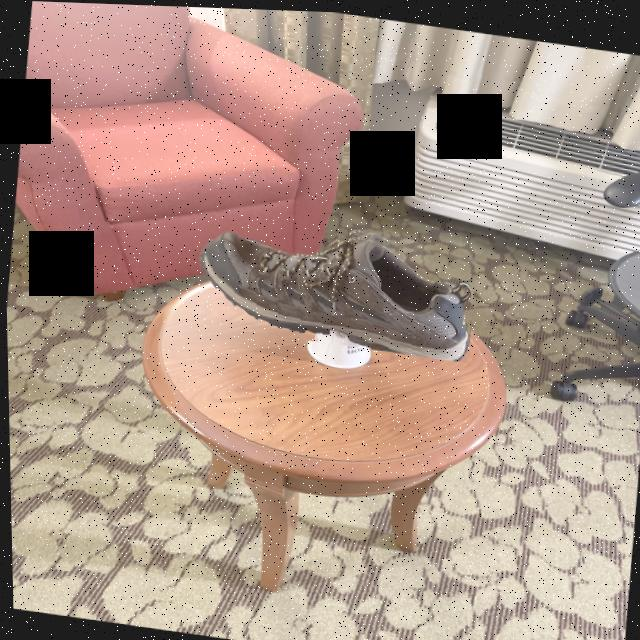shoe: (191, 205, 479, 360)
